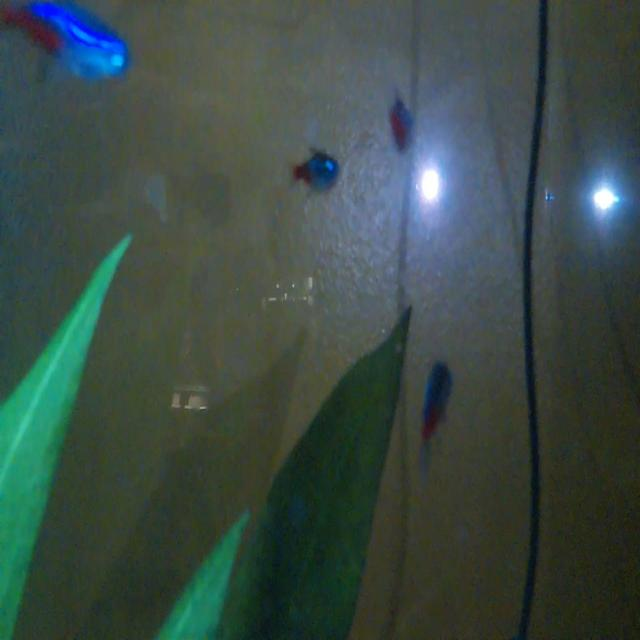fish: (282, 135, 346, 204)
